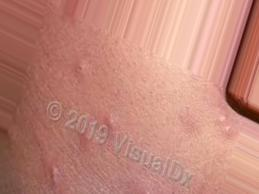Fleas: (174, 103, 204, 136), (211, 113, 242, 143), (99, 110, 123, 138), (50, 166, 62, 190), (75, 60, 89, 77)
